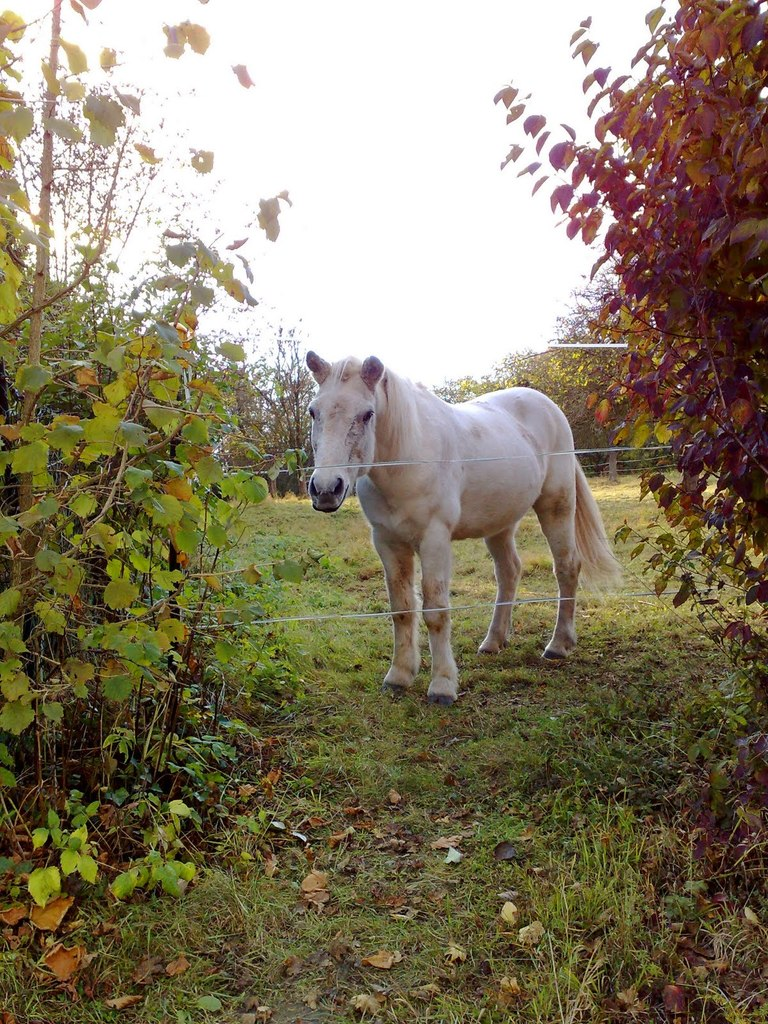horse: (305, 347, 620, 705)
